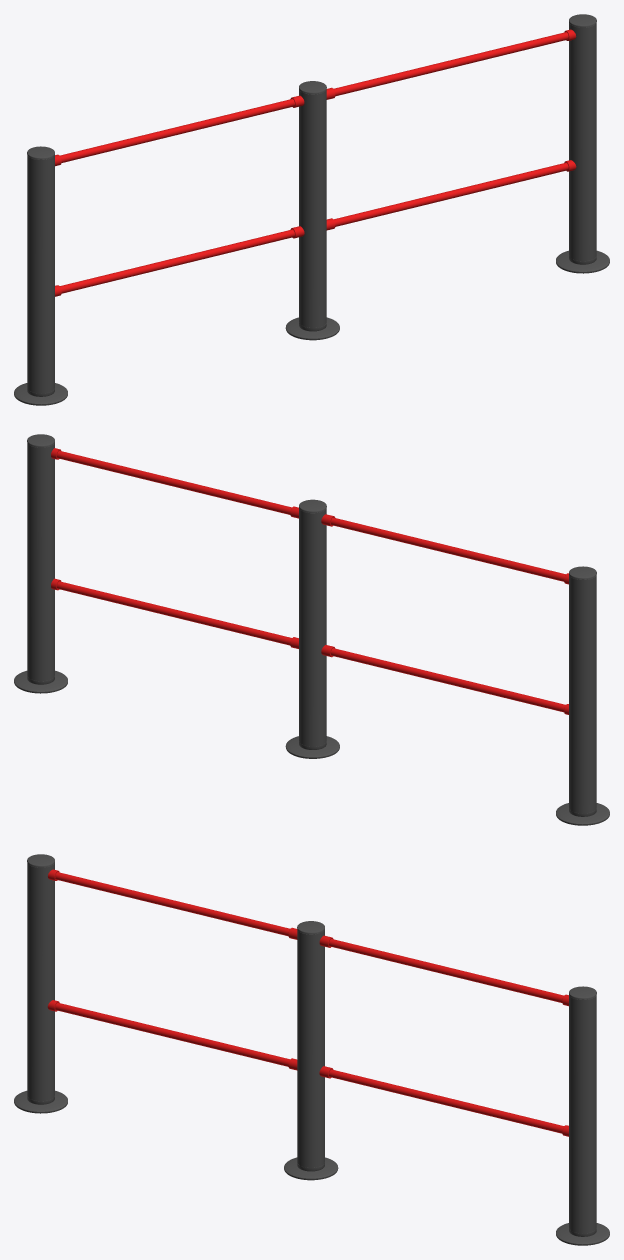
Rendered from Blockade_2.fbx.
The picture shows the model from 3 angles, top to bottom: view 1: azimuth 30°, elevation 25°; view 2: azimuth 150°, elevation 25°; view 3: azimuth 330°, elevation 25°; orthographic projection.
Visible parts, largest first — view 1: polySurface15, polySurface13, polySurface17, polySurface21, polySurface16, polySurface20, polySurface14; view 2: polySurface15, polySurface17, polySurface13, polySurface21, polySurface16, polySurface20, polySurface14; view 3: polySurface17, polySurface13, polySurface15, polySurface20, polySurface14, polySurface21, polySurface16.
Part boxes in pixels (x1,y1,x2,y2): polySurface15: (14, 146, 67, 405); polySurface13: (285, 81, 339, 340); polySurface17: (556, 14, 609, 273); polySurface21: (326, 160, 576, 230); polySurface16: (326, 29, 576, 99); polySurface20: (55, 226, 304, 296); polySurface14: (55, 95, 304, 166); polySurface15: (556, 566, 609, 825); polySurface17: (14, 434, 67, 693); polySurface13: (285, 499, 339, 758); polySurface21: (51, 578, 298, 648); polySurface16: (51, 448, 298, 518); polySurface20: (321, 645, 568, 714); polySurface14: (321, 514, 568, 584); polySurface17: (556, 986, 609, 1245); polySurface13: (284, 921, 338, 1180); polySurface15: (14, 854, 67, 1113); polySurface20: (47, 1000, 297, 1070); polySurface14: (47, 869, 297, 939); polySurface21: (319, 1066, 568, 1136); polySurface16: (319, 935, 568, 1006).
Bounding box in the file's own units: 207 × 81.66 × 17.07.
